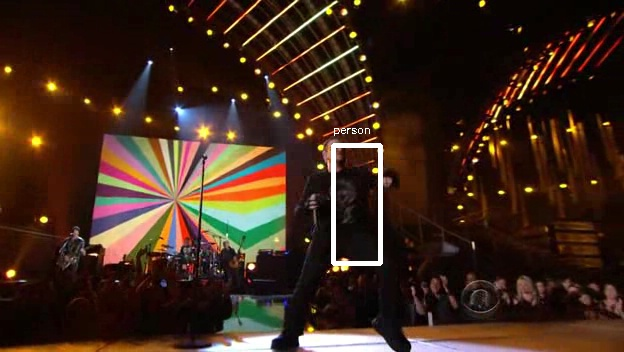person: (310, 139, 376, 258), (307, 139, 373, 258), (313, 139, 379, 258), (310, 136, 376, 255), (310, 142, 376, 261)
target_negative: (250, 26, 277, 307), (9, 334, 527, 344), (541, 278, 617, 327), (76, 275, 478, 282), (154, 40, 322, 44), (584, 332, 601, 351)
